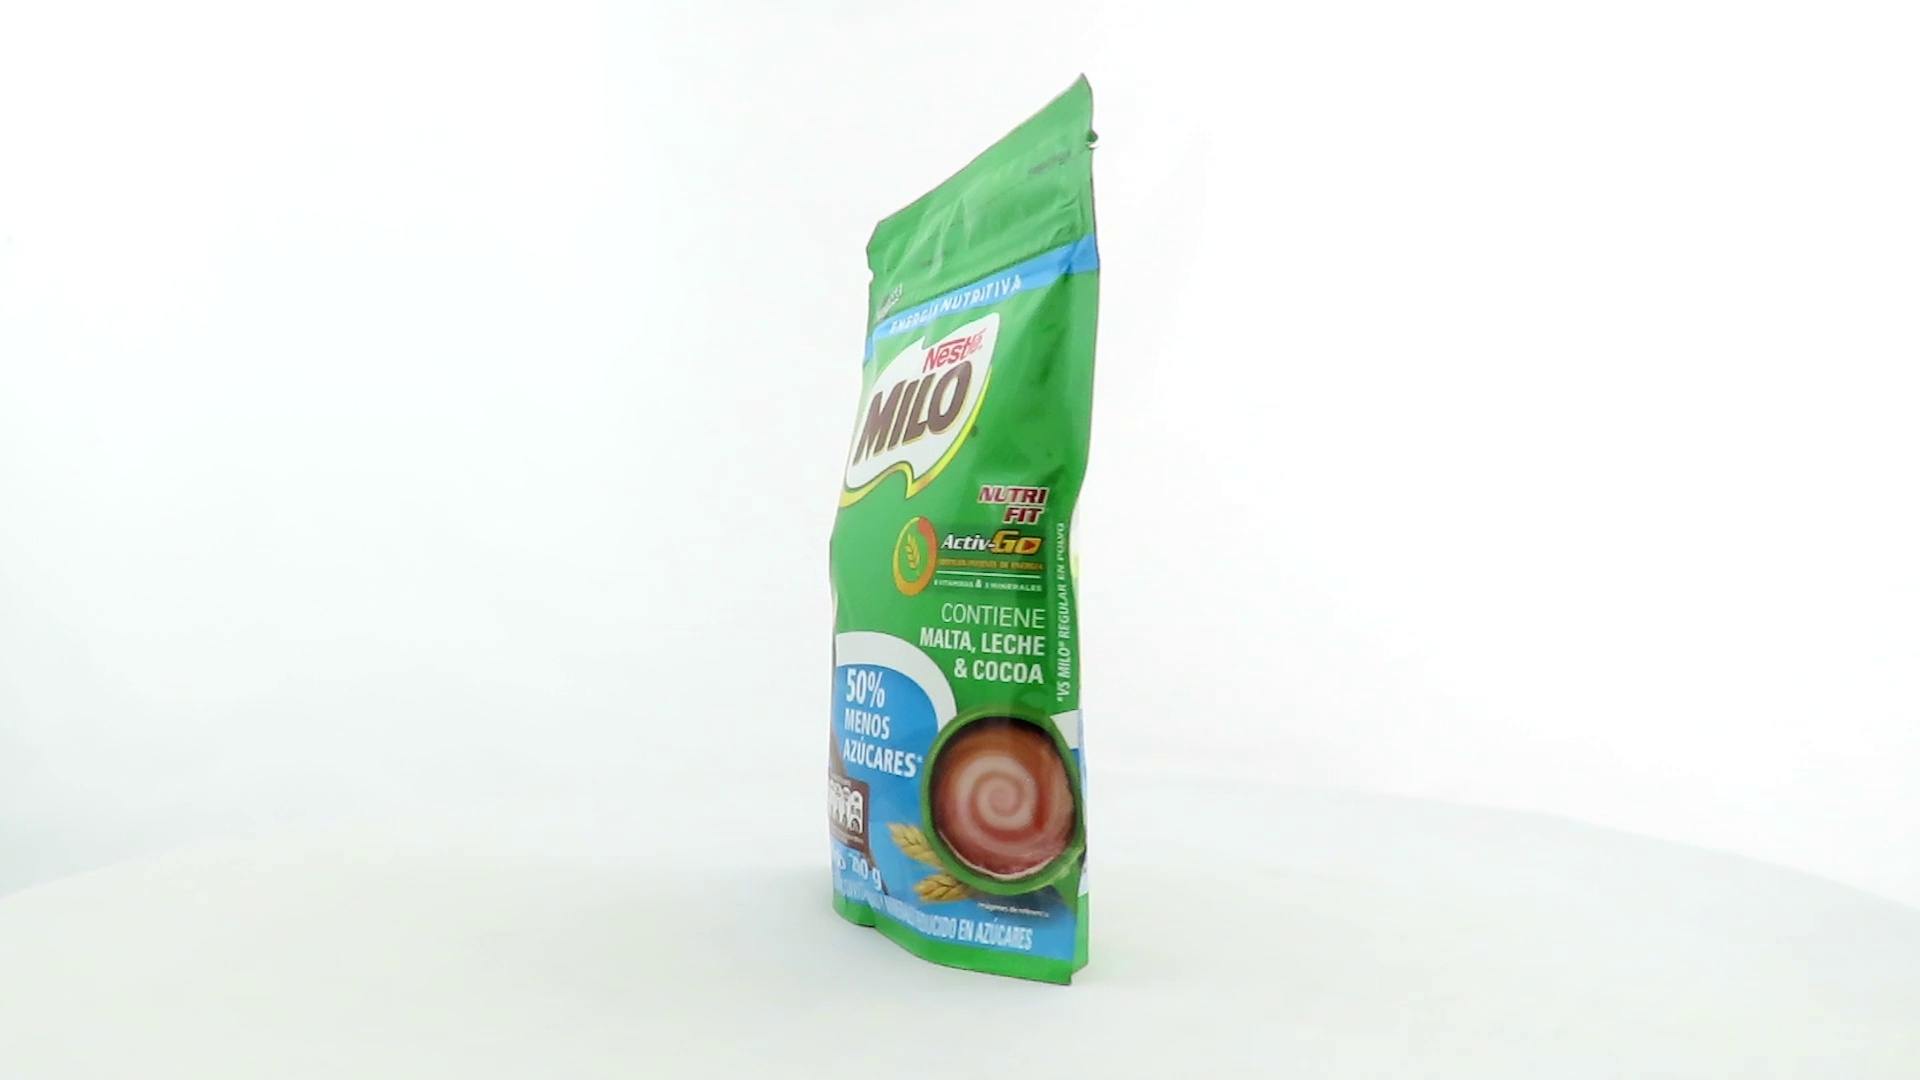COL0170205DYP20000: (822, 69, 1106, 992)
